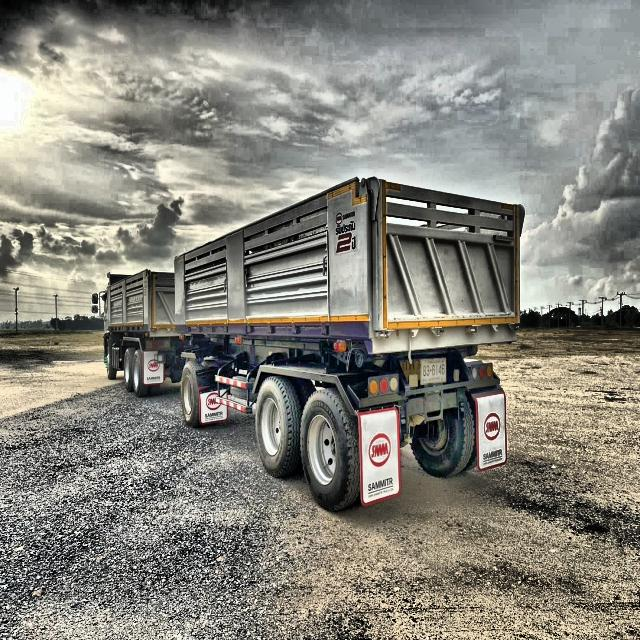trailer: (101, 170, 527, 510)
